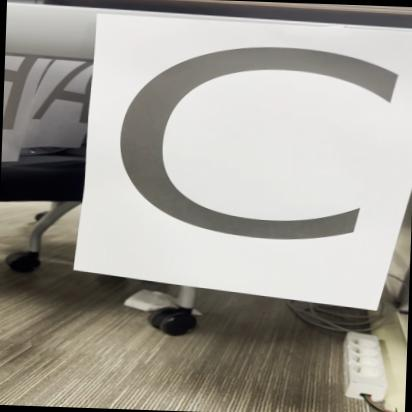seat: (83, 7, 392, 316)
